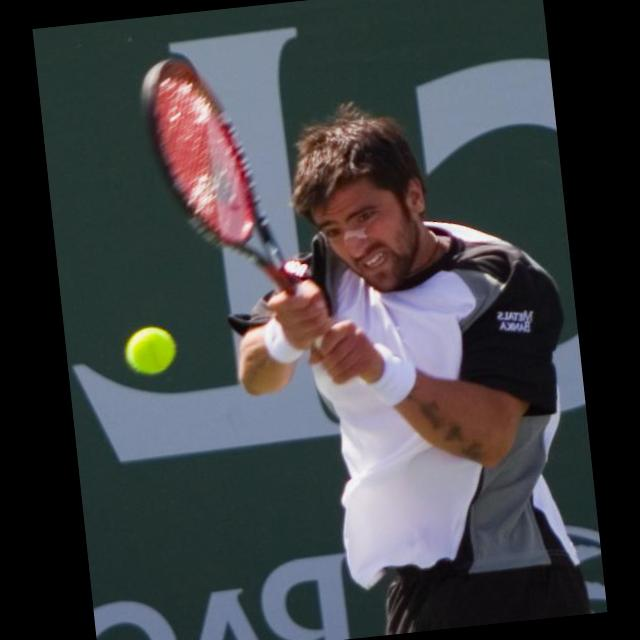Tennis Ball: (120, 322, 178, 378)
